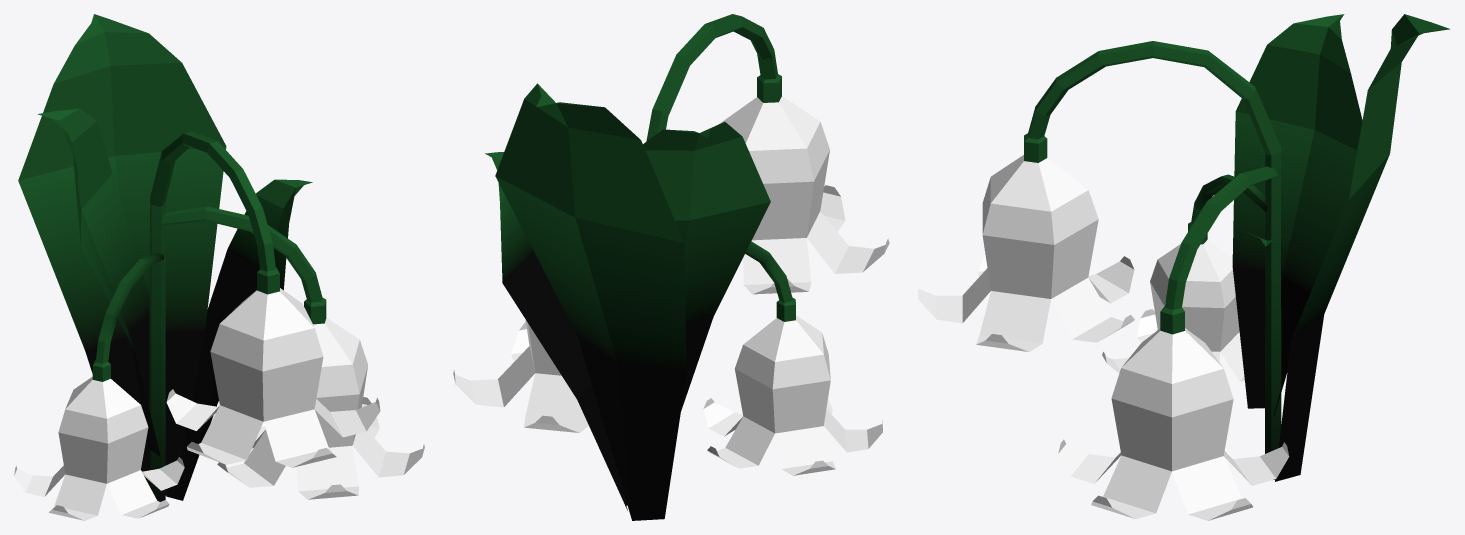
File: flowerWhite3.fbx
3 renders of one model, left to right at view 1: azimuth 30°, elevation 25°; view 2: azimuth 150°, elevation 25°; view 3: azimuth 270°, elevation 25°, orthographic. The views are drawn at different scales.
Parts seen in each view (by area): view 1: Plane.044; view 2: Plane.044; view 3: Plane.044.
Boxes of the visible parts, x1=… form: Plane.044: x1=14, y1=14, x2=424, y2=520; Plane.044: x1=453, y1=14, x2=889, y2=520; Plane.044: x1=918, y1=14, x2=1450, y2=520.
Size of the model in its own units: 508 by 582 by 613.
